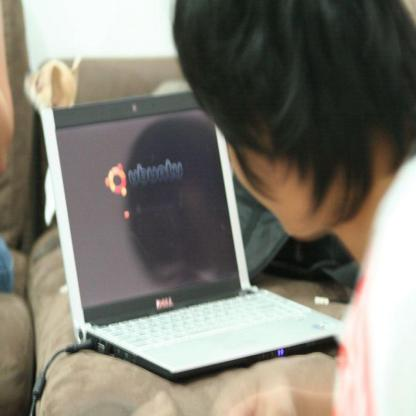board: (30, 80, 347, 398)
